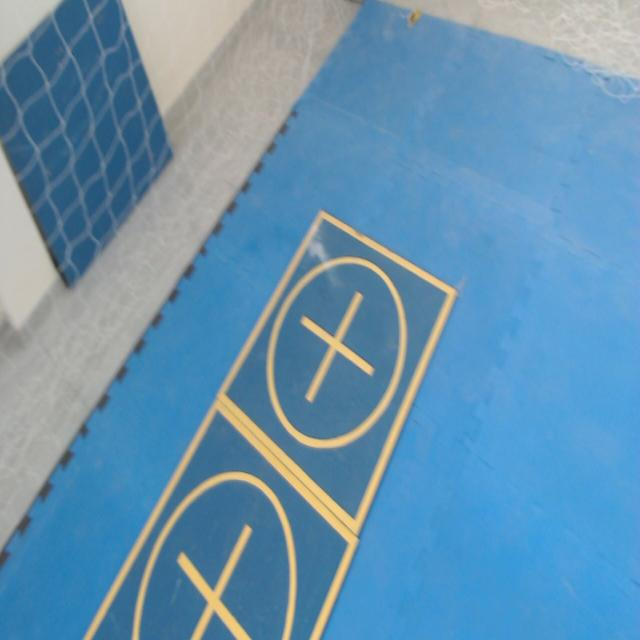base_pouso: (219, 211, 460, 538), (77, 403, 364, 639)
